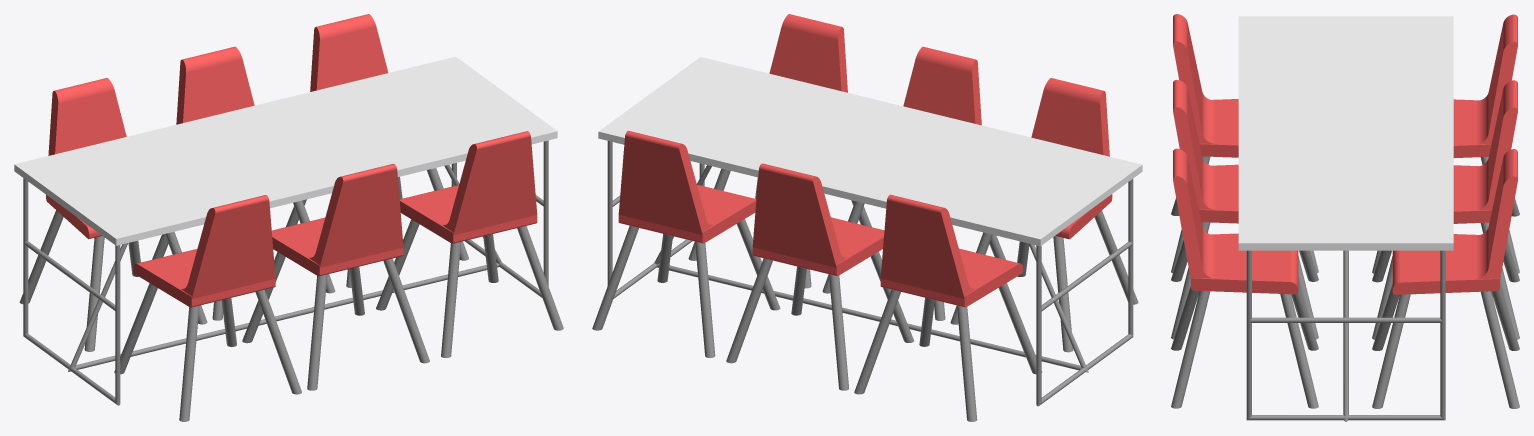
The model's file is 526_ダイニングテーブルセット6人掛け.glb.
3 renders of one model, left to right at view 1: azimuth 30°, elevation 25°; view 2: azimuth 150°, elevation 25°; view 3: azimuth 270°, elevation 25°, orthographic. The views are drawn at different scales.
Parts seen in each view (by area): view 1: Body, 004_椅子.003, 004_椅子.005, 004_椅子.001, 004_椅子.002, 004_椅子, 004_椅子.004; view 2: Body, 004_椅子.002, 004_椅子.004, 004_椅子, 004_椅子.003, 004_椅子.001, 004_椅子.005; view 3: Body, 004_椅子.004, 004_椅子.005, 004_椅子.001, 004_椅子, 004_椅子.003, 004_椅子.002.
Boxes of the visible parts, box(x1,y1,x2,y2) form: Body: box(14, 56, 557, 405); 004_椅子.003: box(114, 195, 301, 421); 004_椅子.005: box(376, 131, 563, 357); 004_椅子.001: box(242, 163, 429, 390); 004_椅子.002: box(19, 78, 207, 351); 004_椅子: box(152, 46, 335, 320); 004_椅子.004: box(286, 14, 468, 287); Body: box(598, 57, 1142, 406); 004_椅子.002: box(854, 194, 1042, 421); 004_椅子.004: box(592, 130, 780, 357); 004_椅子: box(726, 163, 913, 390); 004_椅子.003: box(950, 78, 1138, 352); 004_椅子.001: box(822, 46, 1005, 320); 004_椅子.005: box(688, 14, 871, 288); Body: box(1238, 16, 1453, 421); 004_椅子.004: box(1372, 149, 1519, 408); 004_椅子.005: box(1171, 148, 1318, 408); 004_椅子.001: box(1171, 80, 1318, 339); 004_椅子: box(1372, 80, 1519, 339); 004_椅子.003: box(1171, 14, 1318, 273); 004_椅子.002: box(1372, 14, 1519, 273).
Bounding box in the file's own units: 2 × 0.8934 × 1.3.
